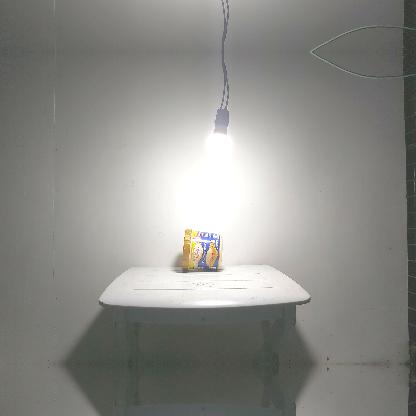Lady-s-Choice: (182, 227, 223, 271)
